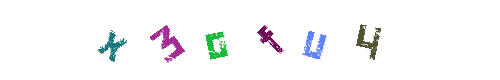3: (142, 0, 222, 80)
4: (289, 0, 369, 80)
F: (210, 0, 290, 80)
O: (175, 0, 255, 80)
U: (242, 0, 322, 80)
X: (72, 0, 152, 80)
